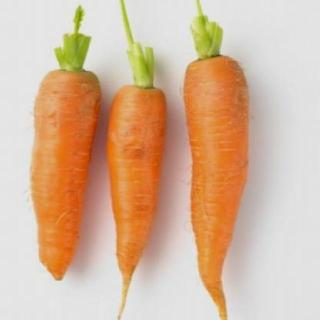carrot: (171, 44, 265, 318), (22, 63, 100, 290), (100, 74, 166, 308)
